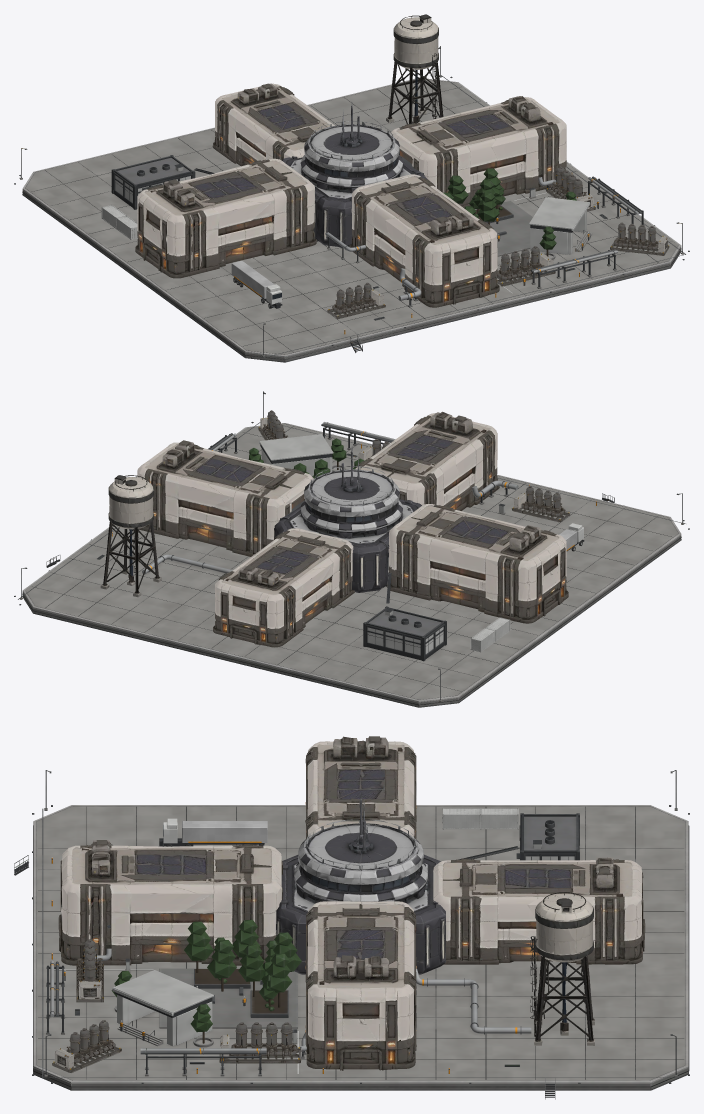
File: infrastructure.glb
3 renders of one model, top to bottom at view 1: azimuth 30°, elevation 25°; view 2: azimuth 150°, elevation 25°; view 3: azimuth 270°, elevation 25°, orthographic. The views are drawn at different scales.
Parts seen in each view (by area): view 1: hull, parts_colony-adminWing, parts_colony-hubDrum, parts_colony-vesselSkid, parts_colony-waterTower, parts_yard-truck, parts_container; view 2: hull, parts_colony-adminWing, parts_colony-hubDrum, parts_colony-waterTower, parts_colony-vesselSkid, parts_container; view 3: hull, parts_colony-adminWing, parts_colony-hubDrum, parts_colony-waterTower, parts_colony-vesselSkid, parts_yard-truck, parts_container.
Boxes of the visible parts, <box> form: hull: <box>14,46,689,362</box>; parts_colony-adminWing: <box>135,83,566,307</box>; parts_colony-hubDrum: <box>281,102,427,247</box>; parts_colony-vesselSkid: <box>327,166,669,319</box>; parts_colony-waterTower: <box>386,14,443,124</box>; parts_yard-truck: <box>231,260,282,308</box>; parts_container: <box>101,205,137,239</box>; hull: <box>14,391,689,707</box>; parts_colony-adminWing: <box>137,411,568,647</box>; parts_colony-hubDrum: <box>274,446,421,592</box>; parts_colony-waterTower: <box>100,475,161,597</box>; parts_colony-vesselSkid: <box>258,410,570,522</box>; parts_container: <box>470,617,510,652</box>; hull: <box>14,770,689,1099</box>; parts_colony-adminWing: <box>58,736,645,1070</box>; parts_colony-hubDrum: <box>276,792,445,974</box>; parts_colony-waterTower: <box>530,892,594,1045</box>; parts_colony-vesselSkid: <box>52,843,301,1072</box>; parts_yard-truck: <box>159,818,267,846</box>; parts_container: <box>442,808,518,829</box>.
Size of the model in its own units: 107 by 28.36 by 107.
10 materials, 10 textured.
